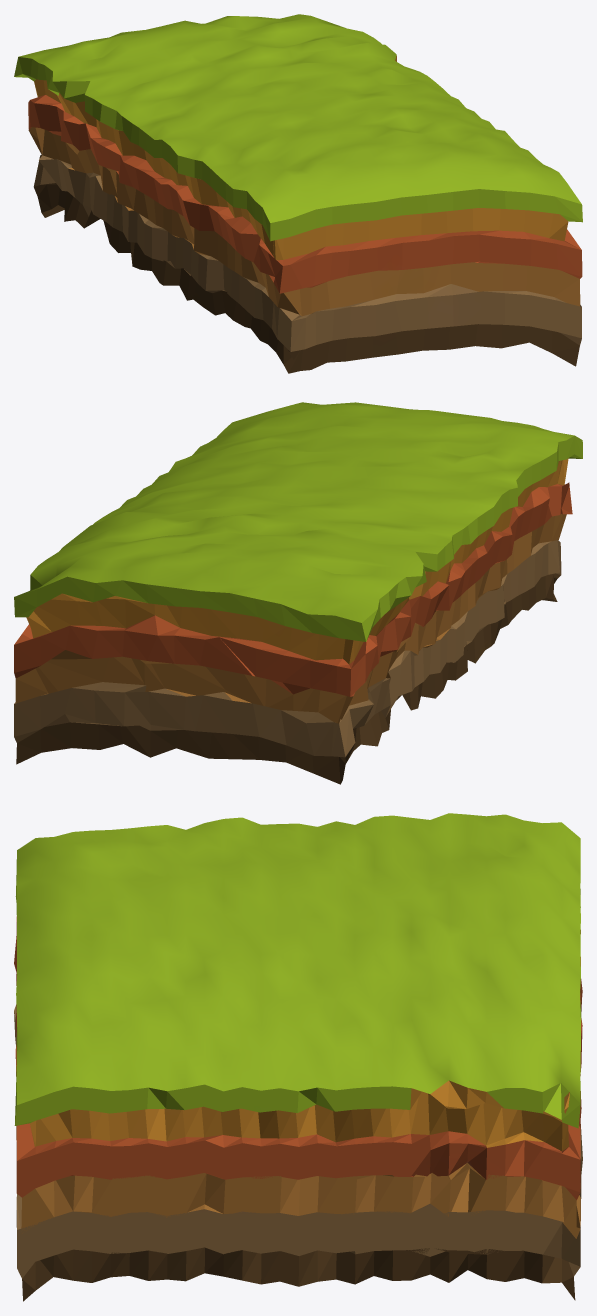
The model's file is Ground.FBX.
The picture shows the model from 3 angles, top to bottom: view 1: azimuth 30°, elevation 25°; view 2: azimuth 150°, elevation 25°; view 3: azimuth 270°, elevation 25°; orthographic projection. The views are drawn at different scales.
Parts seen in each view (by area): view 1: Terrain; view 2: Terrain; view 3: Terrain.
Boxes of the visible parts, bbox=[...] form: Terrain: bbox=[14, 14, 582, 373]; Terrain: bbox=[14, 402, 582, 784]; Terrain: bbox=[14, 813, 582, 1301].
Size of the model in its own units: 1349 by 904 by 1587.
